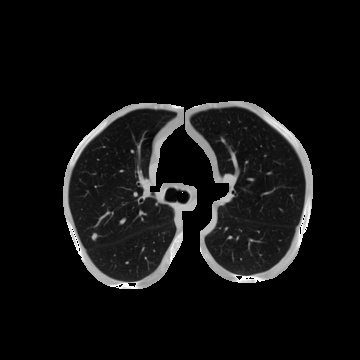PN: (90, 233, 98, 241)
